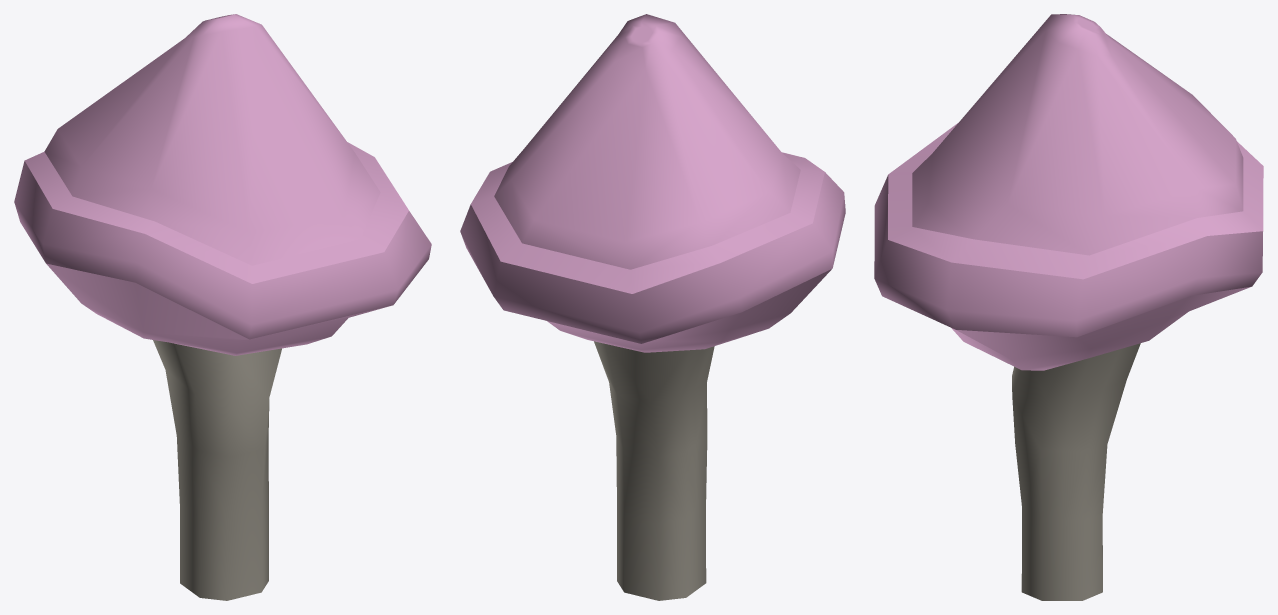
Rendered from Mushroom_03.fbx.
3 renders of one model, left to right at view 1: azimuth 30°, elevation 25°; view 2: azimuth 150°, elevation 25°; view 3: azimuth 270°, elevation 25°, orthographic.
Visible parts, largest first — view 1: Champi_03; view 2: Champi_03; view 3: Champi_03.
Boxes of the visible parts, bbox=[...] form: Champi_03: bbox=[14, 14, 431, 600]; Champi_03: bbox=[460, 14, 845, 600]; Champi_03: bbox=[874, 14, 1263, 600].
Size of the model in its own units: 0.2545 by 0.3868 by 0.2399.
